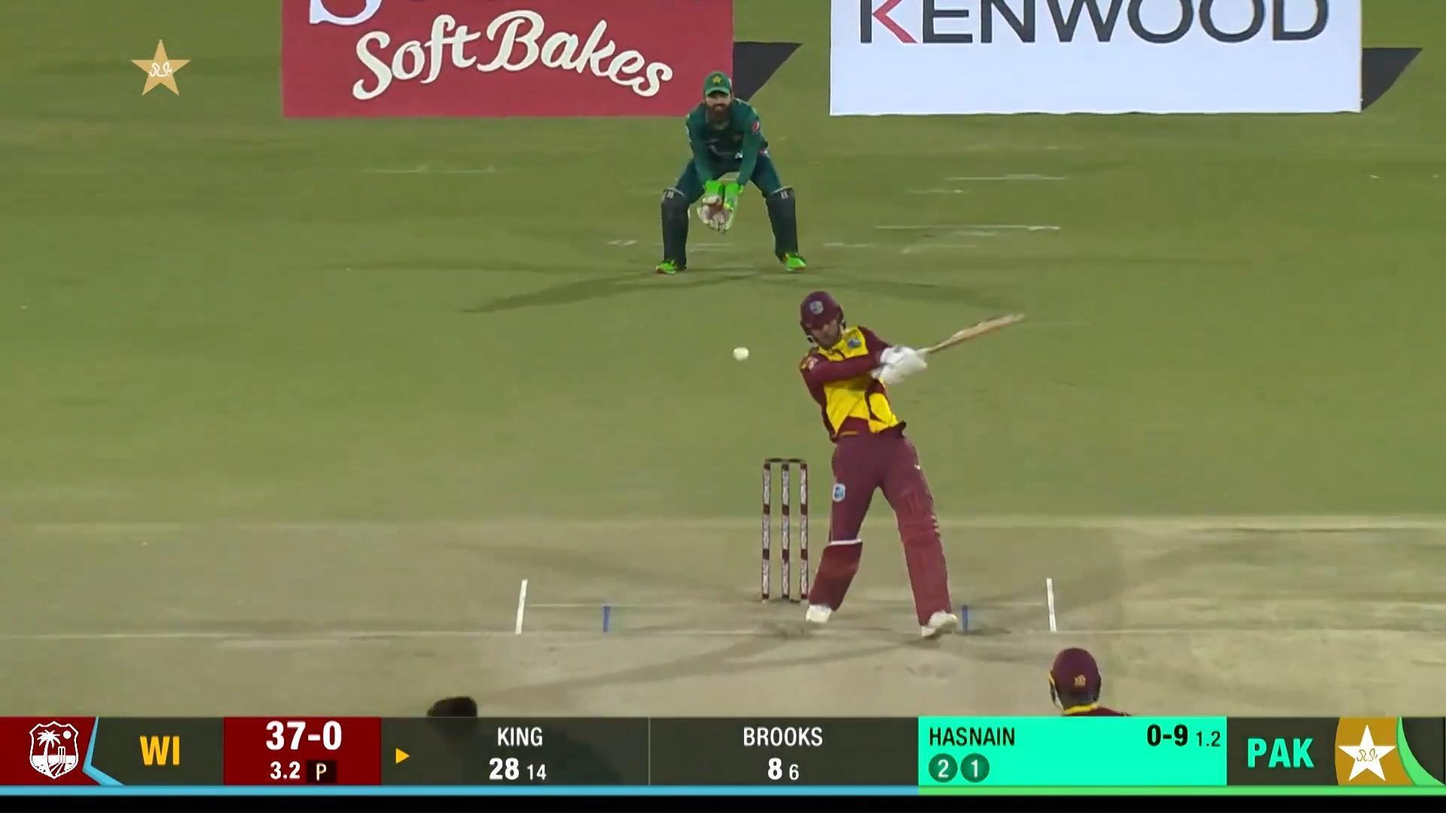BM 1: (797, 288, 1029, 644)
BO: (424, 694, 639, 813)
